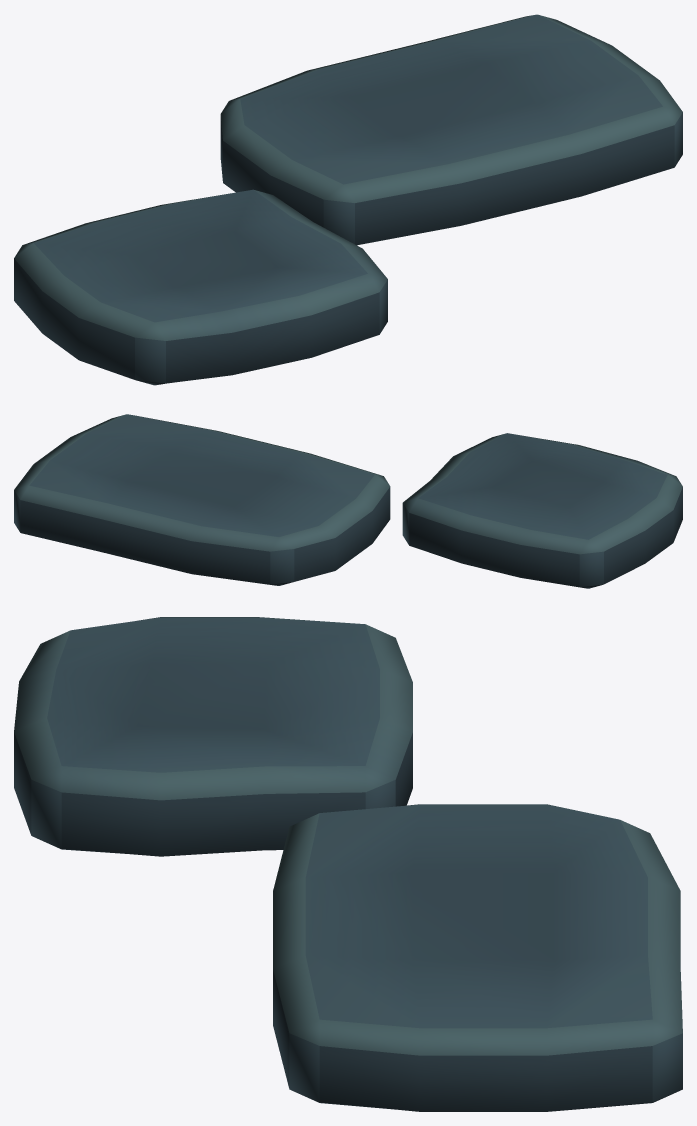
File: stone_path_10_LOD_setup.fbx
The picture shows the model from 3 angles, top to bottom: view 1: azimuth 30°, elevation 25°; view 2: azimuth 150°, elevation 25°; view 3: azimuth 270°, elevation 25°; orthographic projection. The views are drawn at different scales.
Visible parts, largest first — view 1: stone_path_10_LOD0; view 2: stone_path_10_LOD0; view 3: stone_path_10_LOD0.
Boxes of the visible parts, bbox=[...] form: stone_path_10_LOD0: bbox=[14, 14, 682, 385]; stone_path_10_LOD0: bbox=[14, 414, 682, 588]; stone_path_10_LOD0: bbox=[14, 617, 682, 1111].
Size of what is drawn, in the model's own units: 206 by 18.28 by 133.
